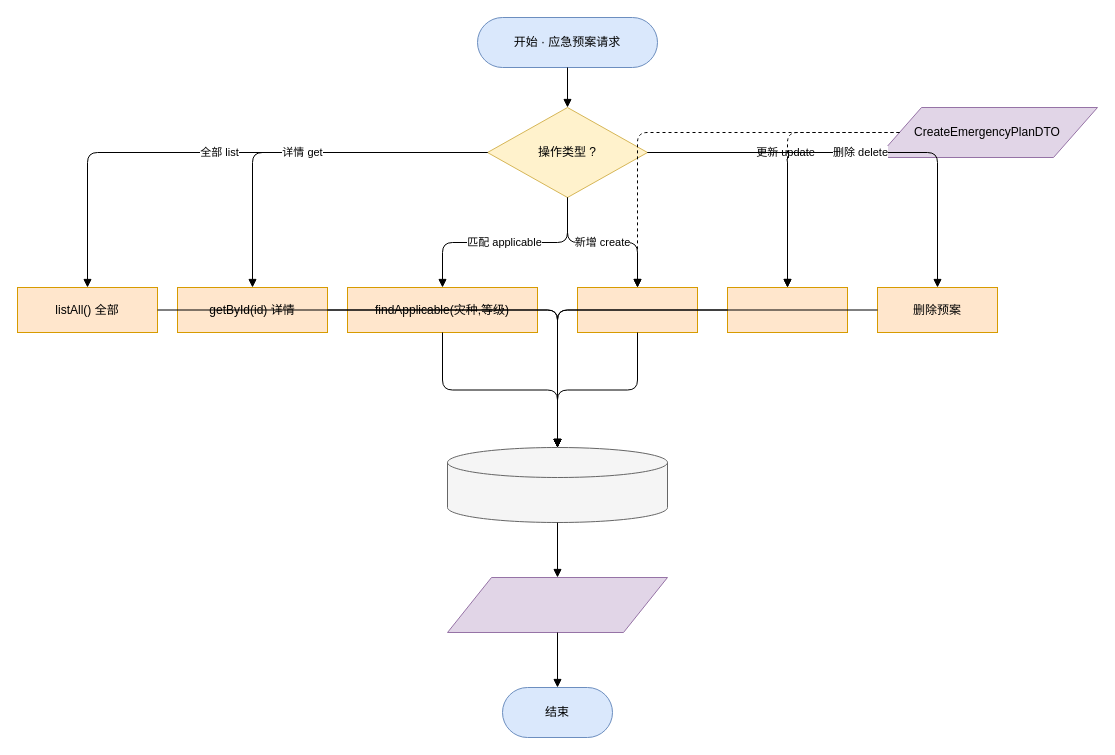
The diagram is 1115 pixels wide and 755 high, and some of its shapes have lost their labels. Here are the shapes that lost their labels. From the top down, the centre of each, then its label:
the point at 637,309: 新增预案
the point at 787,309: 更新预案
the point at 557,484: biz.biz_emergency_plan 应急预案实体表
the point at 557,604: EmergencyPlanVO 输出
